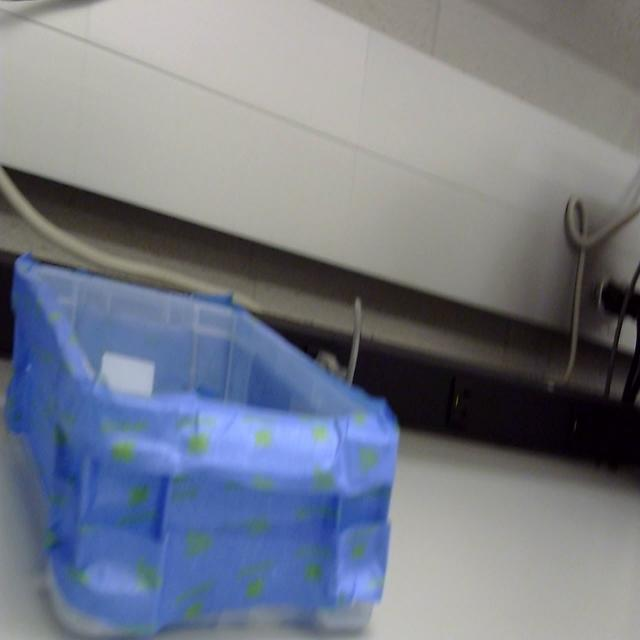bucket: (4, 255, 400, 640)
